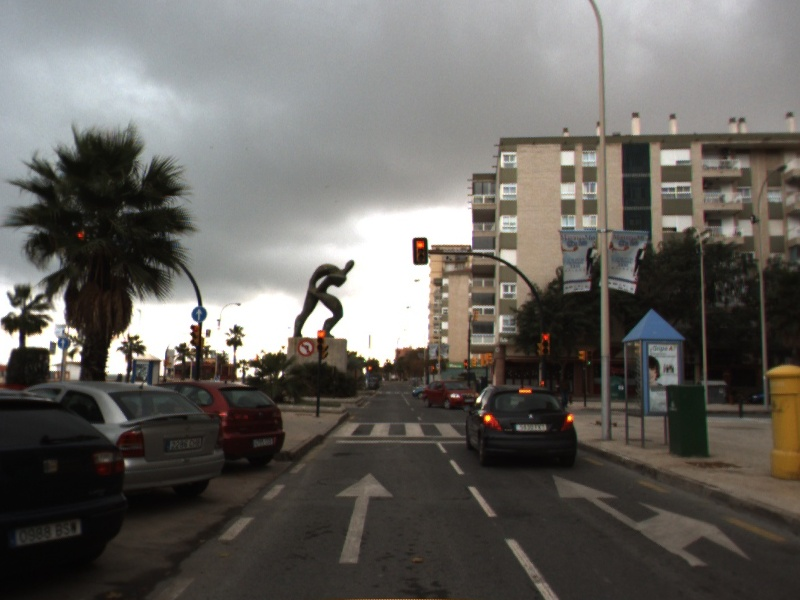STRAIGHT: (333, 471, 396, 565)
STRAIGHT_RIGHT: (550, 472, 753, 567)
